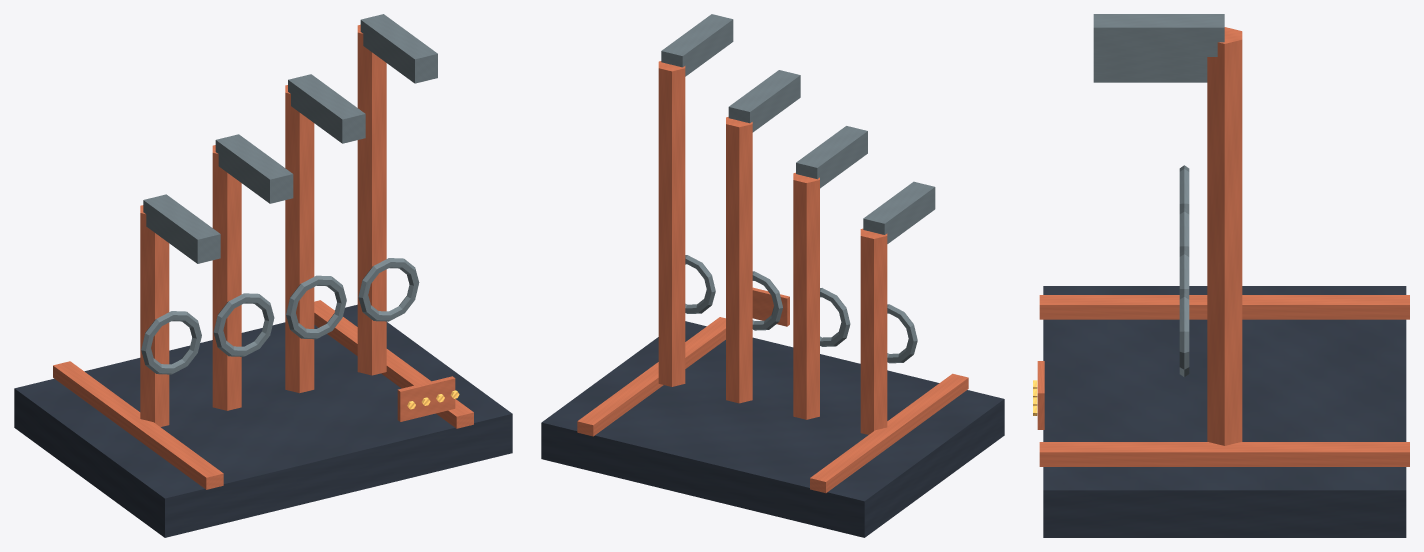
File: atlas100-s025-a03.glb
The picture shows the model from 3 angles, left to right: view 1: azimuth 30°, elevation 25°; view 2: azimuth 150°, elevation 25°; view 3: azimuth 270°, elevation 25°; orthographic projection. The views are drawn at different scales.
Visible parts, largest first — view 1: atlas100-s025-a03:part-000, atlas100-s025-a03:part-012, atlas100-s025-a03:part-009, atlas100-s025-a03:part-006, atlas100-s025-a03:part-003, atlas100-s025-a03:part-001, atlas100-s025-a03:part-008, atlas100-s025-a03:part-011, atlas100-s025-a03:part-005, atlas100-s025-a03:part-014, atlas100-s025-a03:part-002, atlas100-s025-a03:part-015 (+4 smaller); view 2: atlas100-s025-a03:part-000, atlas100-s025-a03:part-012, atlas100-s025-a03:part-009, atlas100-s025-a03:part-006, atlas100-s025-a03:part-003, atlas100-s025-a03:part-001, atlas100-s025-a03:part-002, atlas100-s025-a03:part-014, atlas100-s025-a03:part-005, atlas100-s025-a03:part-011, atlas100-s025-a03:part-008, atlas100-s025-a03:part-015 (+4 smaller); view 3: atlas100-s025-a03:part-000, atlas100-s025-a03:part-012, atlas100-s025-a03:part-002, atlas100-s025-a03:part-001, atlas100-s025-a03:part-014, atlas100-s025-a03:part-005, atlas100-s025-a03:part-008, atlas100-s025-a03:part-011, atlas100-s025-a03:part-013, atlas100-s025-a03:part-015, atlas100-s025-a03:part-004, atlas100-s025-a03:part-007 (+1 smaller).
Part boxes in pixels (x1,y1,x2,y2): atlas100-s025-a03:part-000: (14, 304, 512, 537); atlas100-s025-a03:part-012: (357, 24, 386, 375); atlas100-s025-a03:part-009: (285, 85, 314, 393); atlas100-s025-a03:part-006: (212, 145, 241, 410); atlas100-s025-a03:part-003: (140, 205, 169, 426); atlas100-s025-a03:part-001: (53, 361, 223, 489); atlas100-s025-a03:part-008: (215, 134, 293, 203); atlas100-s025-a03:part-011: (288, 74, 365, 143); atlas100-s025-a03:part-005: (143, 194, 220, 263); atlas100-s025-a03:part-014: (360, 14, 437, 83); atlas100-s025-a03:part-002: (314, 300, 473, 428); atlas100-s025-a03:part-015: (397, 376, 455, 421); atlas100-s025-a03:part-000: (541, 321, 1004, 537); atlas100-s025-a03:part-012: (658, 61, 685, 386); atlas100-s025-a03:part-009: (726, 117, 752, 403); atlas100-s025-a03:part-006: (793, 172, 819, 419); atlas100-s025-a03:part-003: (860, 228, 887, 434); atlas100-s025-a03:part-001: (810, 373, 968, 493); atlas100-s025-a03:part-002: (577, 317, 725, 436); atlas100-s025-a03:part-014: (661, 14, 733, 76); atlas100-s025-a03:part-005: (863, 181, 935, 243); atlas100-s025-a03:part-011: (728, 70, 800, 132); atlas100-s025-a03:part-008: (796, 126, 867, 188); atlas100-s025-a03:part-015: (752, 287, 789, 326); atlas100-s025-a03:part-000: (1043, 286, 1406, 537); atlas100-s025-a03:part-012: (1207, 27, 1242, 445); atlas100-s025-a03:part-002: (1039, 442, 1409, 466); atlas100-s025-a03:part-001: (1039, 295, 1409, 319); atlas100-s025-a03:part-014: (1093, 14, 1224, 56); atlas100-s025-a03:part-005: (1093, 74, 1207, 82); atlas100-s025-a03:part-008: (1093, 65, 1207, 73); atlas100-s025-a03:part-011: (1093, 57, 1207, 65); atlas100-s025-a03:part-013: (1179, 293, 1189, 377); atlas100-s025-a03:part-015: (1037, 361, 1044, 429); atlas100-s025-a03:part-004: (1179, 165, 1189, 210); atlas100-s025-a03:part-007: (1179, 208, 1189, 253).
Bounding box in the file's own units: 2.4 × 2.62 × 1.87.
4 materials, 4 textured.
